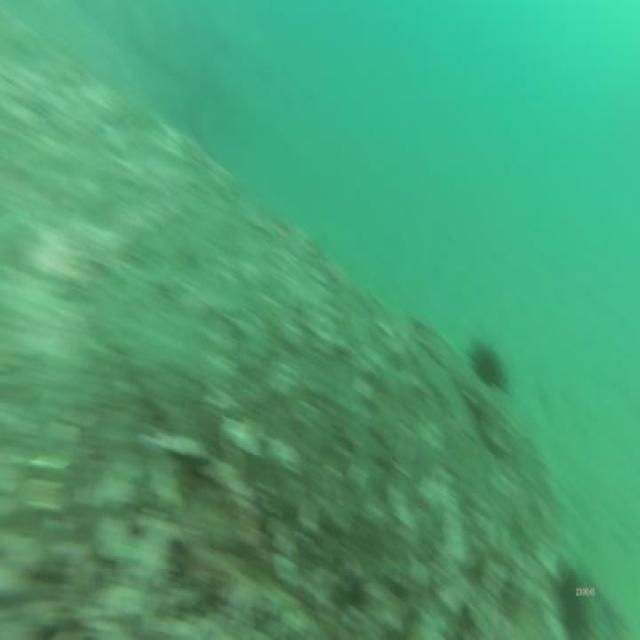echinus: (553, 556, 590, 640), (465, 335, 506, 395)
